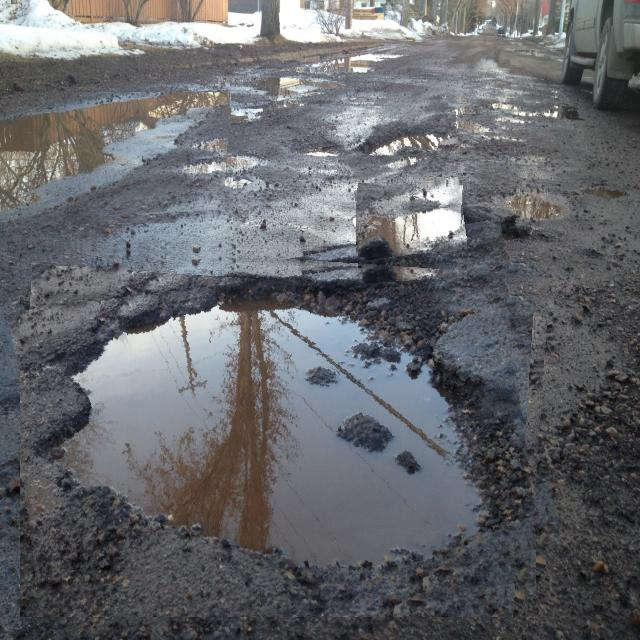Pothole: (20, 241, 550, 617), (1, 92, 232, 225), (338, 100, 458, 177), (356, 180, 465, 257)
